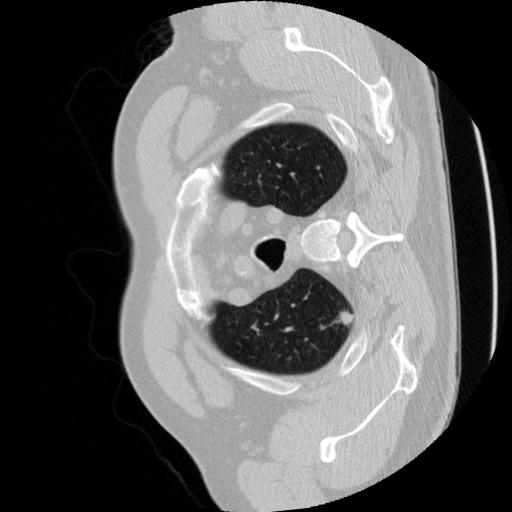nodule: (335, 310, 355, 330)
